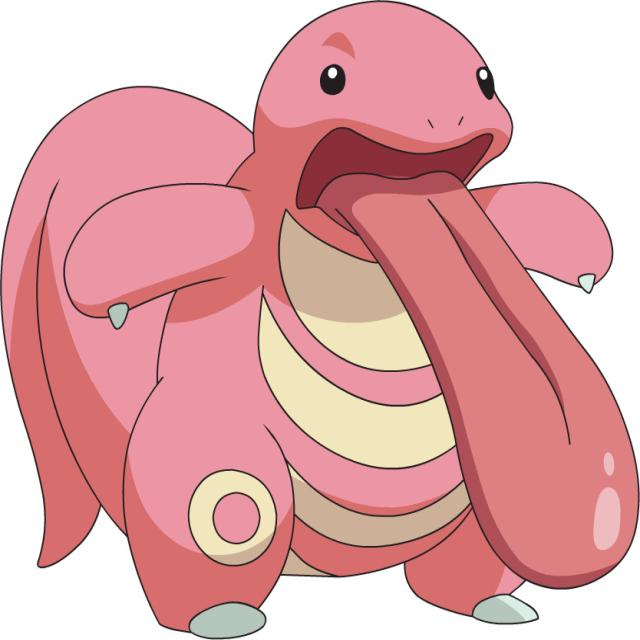Lickitung: (5, 0, 637, 635)
